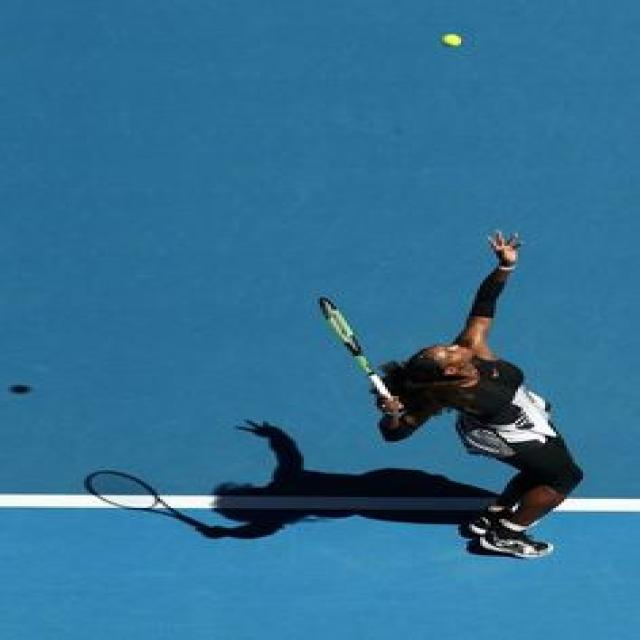tennis: (430, 27, 471, 52)
